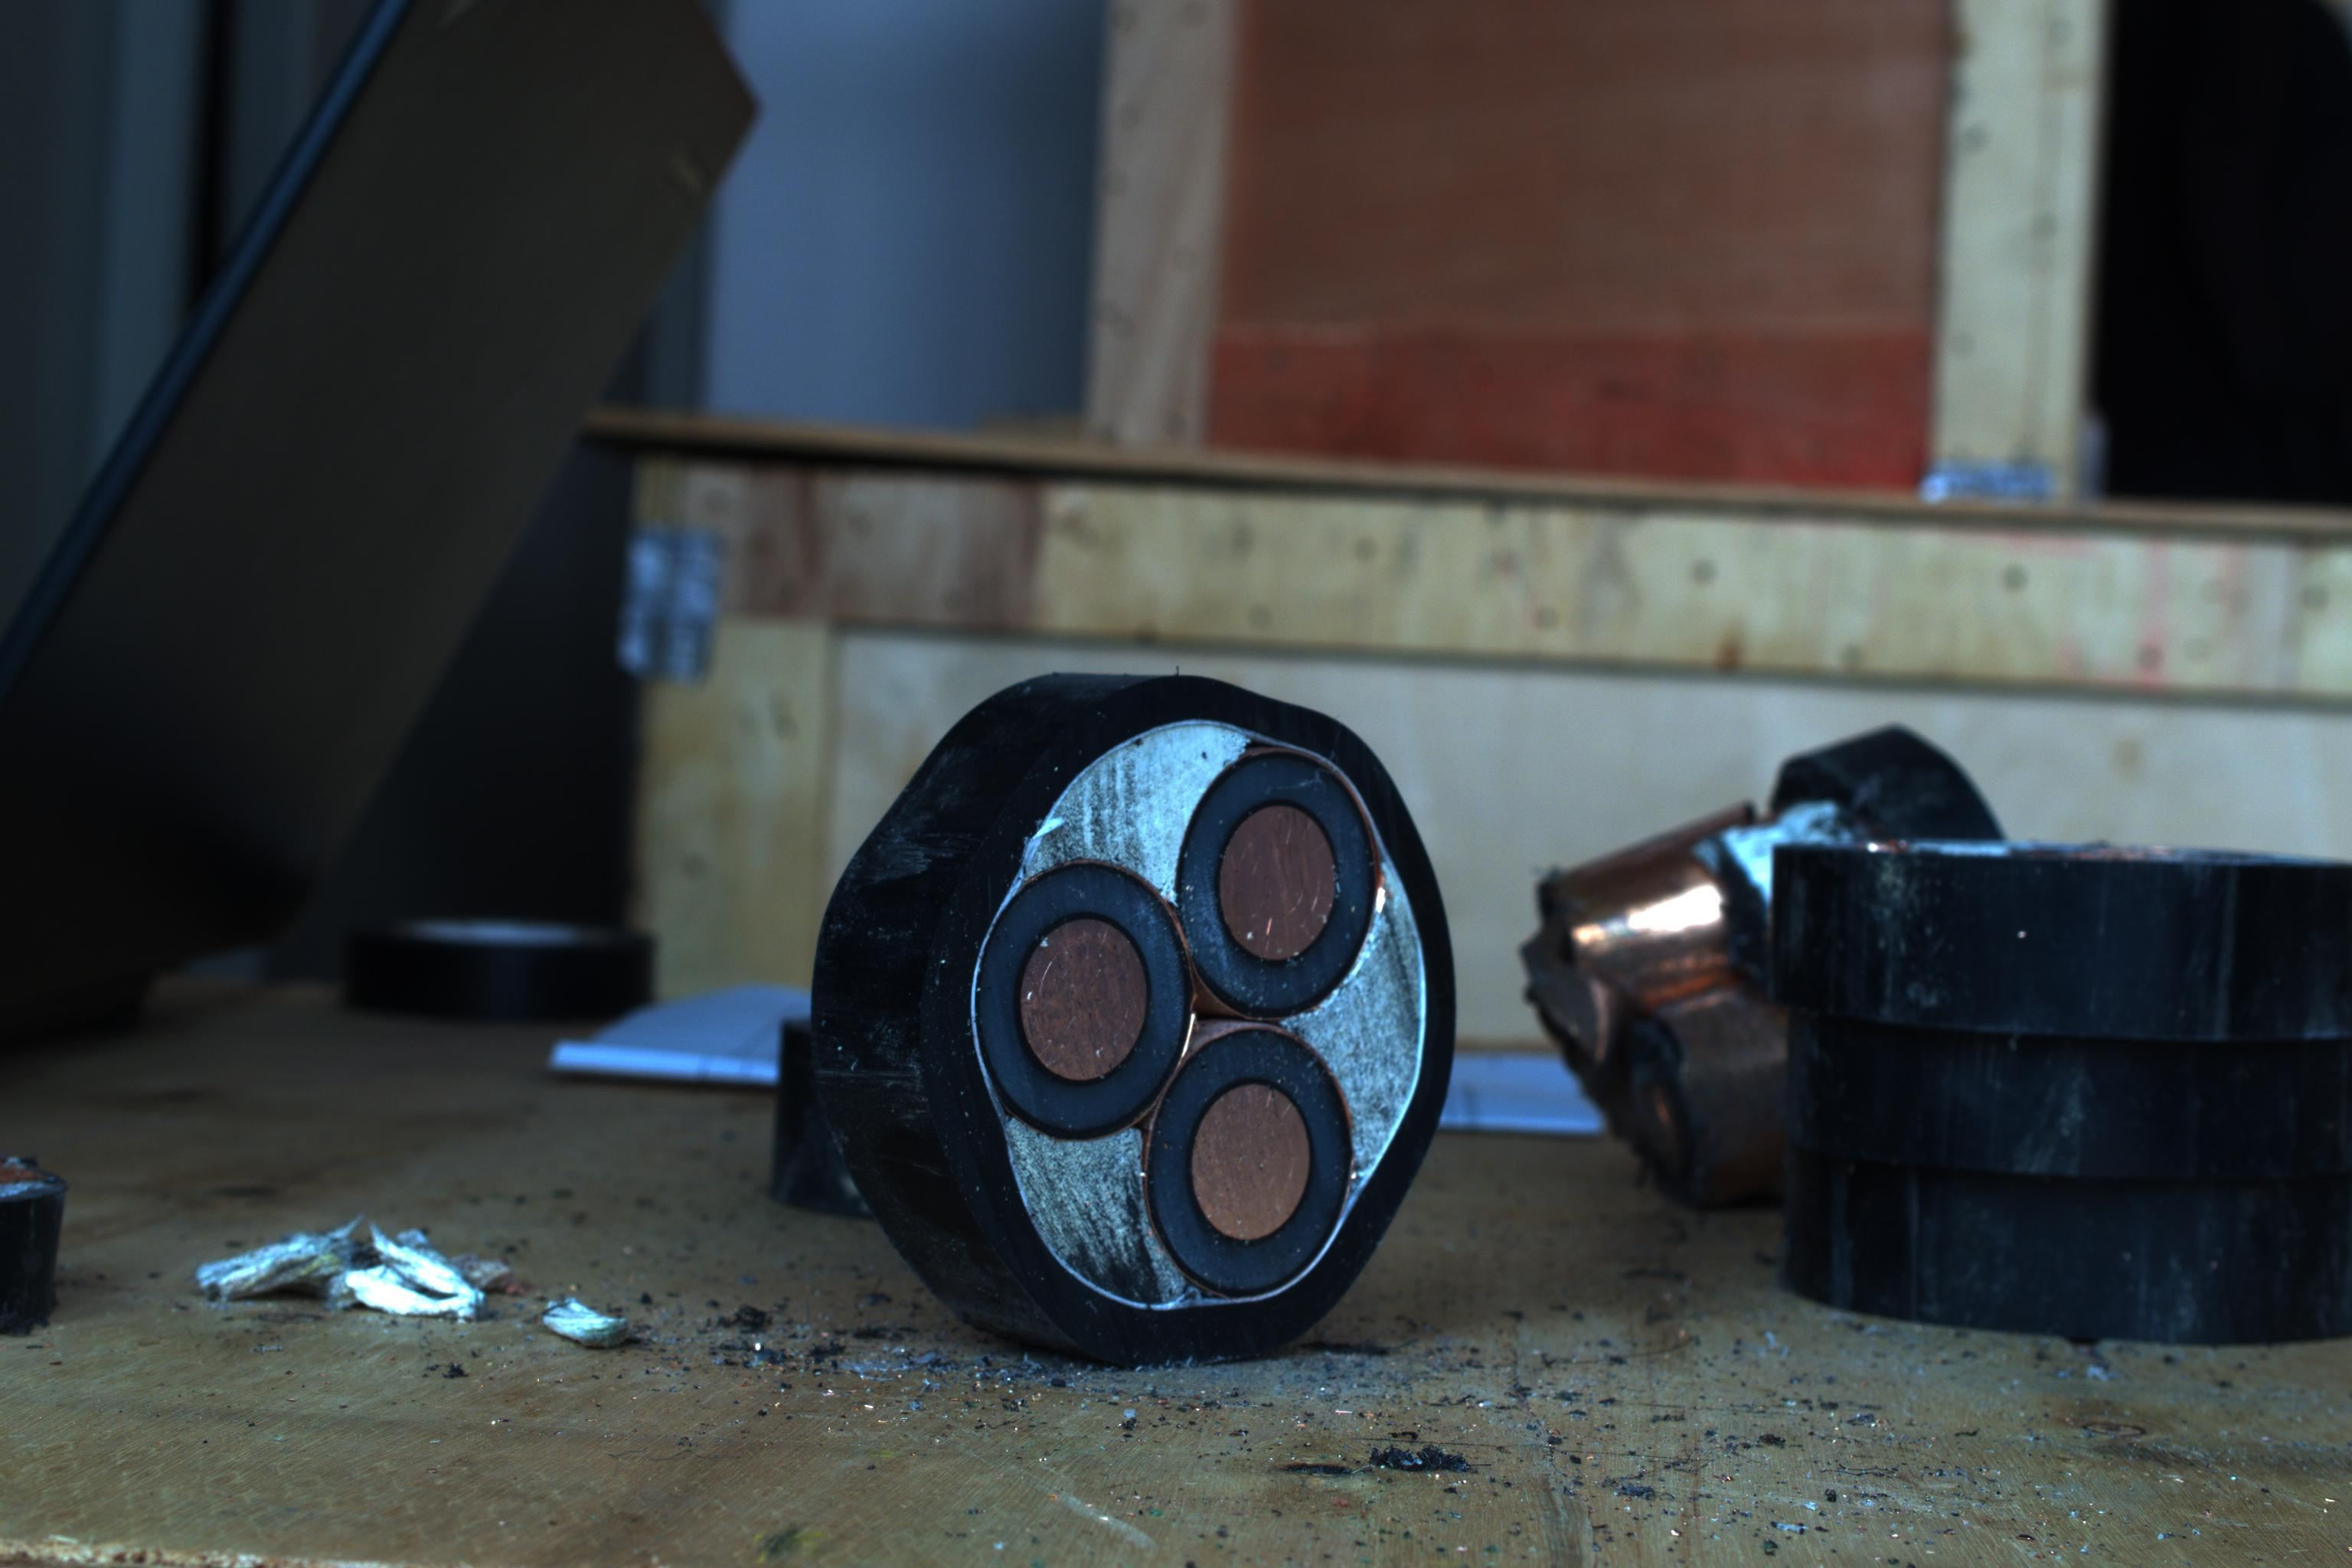ZA_YJV_8.7_10kV_3x240: (882, 705, 1466, 1349)
